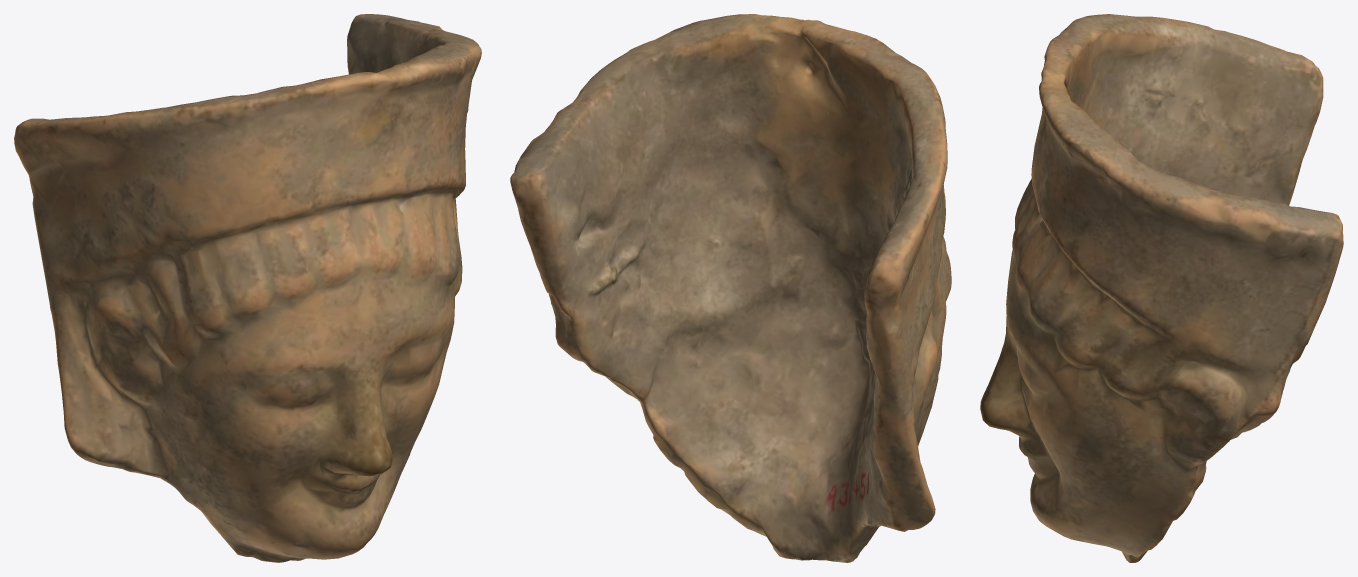
The model's file is cma-selinus-terracotta-mask.glb.
3 renders of one model, left to right at view 1: azimuth 30°, elevation 25°; view 2: azimuth 150°, elevation 25°; view 3: azimuth 270°, elevation 25°, orthographic. The views are drawn at different scales.
Parts seen in each view (by area): view 1: 1943.451_mask; view 2: 1943.451_mask; view 3: 1943.451_mask.
Boxes of the visible parts, x1,y1,x2,y2 form: 1943.451_mask: [14, 14, 481, 562]; 1943.451_mask: [510, 14, 951, 562]; 1943.451_mask: [980, 14, 1343, 562].
Size of the model in its own units: 0.0869 by 0.108 by 0.0715.
1 material, 1 textured.
